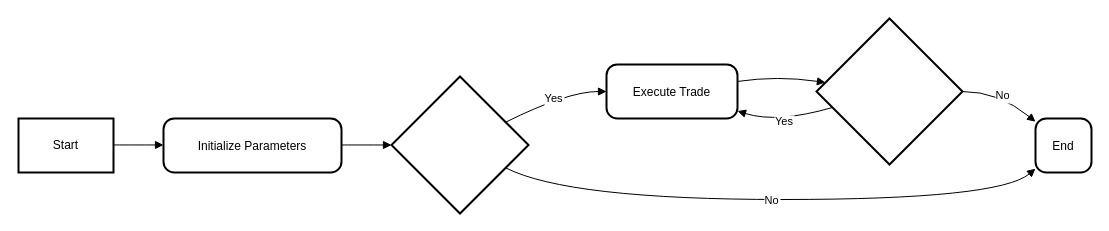
The diagram is 1109 pixels wide and 231 high, and some of its shapes have lost their labels. The centre of each missing label's shape, as x and y in pixels:
"Any Trades?" belongs at [459,144].
"More Trades?" belongs at [889,91].
